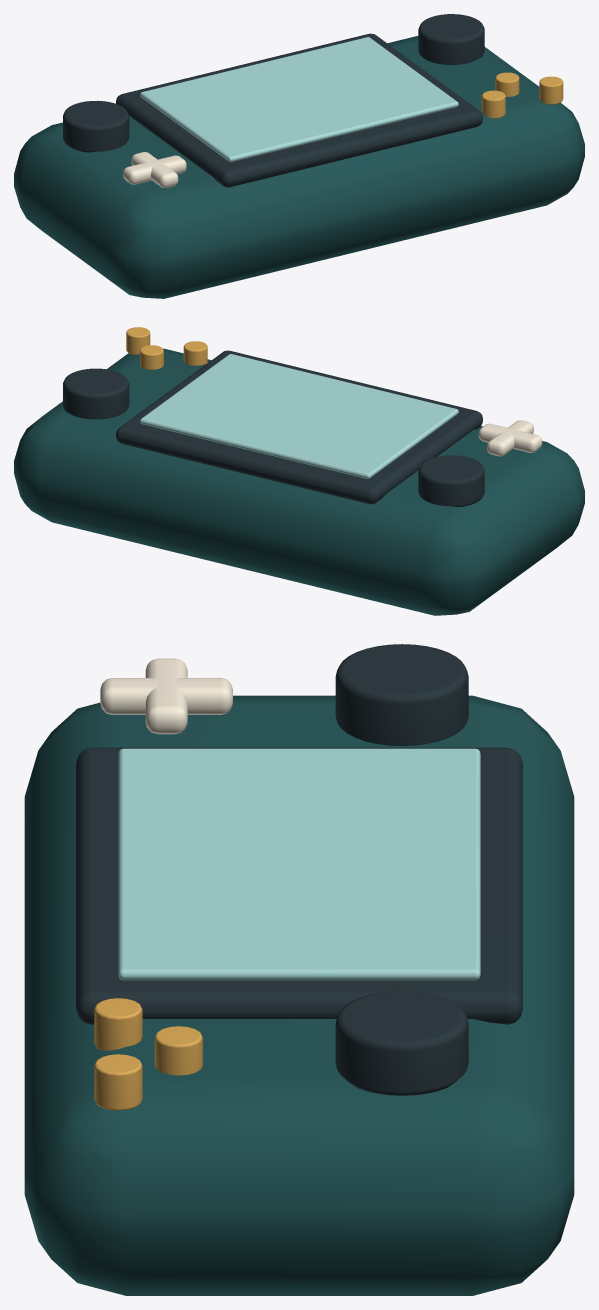
File: Console.fbx
The picture shows the model from 3 angles, top to bottom: view 1: azimuth 30°, elevation 25°; view 2: azimuth 150°, elevation 25°; view 3: azimuth 270°, elevation 25°; orthographic projection. The views are drawn at different scales.
Parts seen in each view (by area): view 1: Surface_KKTC_CanvasDeep, Surface_KKTC_Lens, Surface_KKTC_Rubber, Surface_KKTC_Ochre, Surface_KKTC_WarmWhite; view 2: Surface_KKTC_CanvasDeep, Surface_KKTC_Lens, Surface_KKTC_Rubber, Surface_KKTC_Ochre, Surface_KKTC_WarmWhite; view 3: Surface_KKTC_CanvasDeep, Surface_KKTC_Lens, Surface_KKTC_Rubber, Surface_KKTC_Ochre, Surface_KKTC_WarmWhite.
Part boxes in pixels (bbox=[...]): Surface_KKTC_CanvasDeep: bbox=[14, 36, 584, 298]; Surface_KKTC_Lens: bbox=[140, 37, 458, 162]; Surface_KKTC_Rubber: bbox=[63, 14, 484, 187]; Surface_KKTC_Ochre: bbox=[481, 72, 563, 118]; Surface_KKTC_WarmWhite: bbox=[123, 152, 186, 187]; Surface_KKTC_CanvasDeep: bbox=[14, 348, 584, 615]; Surface_KKTC_Lens: bbox=[140, 354, 458, 478]; Surface_KKTC_Rubber: bbox=[63, 350, 484, 506]; Surface_KKTC_Ochre: bbox=[126, 327, 207, 369]; Surface_KKTC_WarmWhite: bbox=[478, 420, 542, 456]; Surface_KKTC_CanvasDeep: bbox=[24, 695, 574, 1295]; Surface_KKTC_Lens: bbox=[118, 748, 480, 980]; Surface_KKTC_Rubber: bbox=[76, 644, 522, 1095]; Surface_KKTC_Ochre: bbox=[94, 998, 202, 1110]; Surface_KKTC_WarmWhite: bbox=[100, 658, 232, 734].
Size of the model in its own units: 18 by 4.7 by 9.1.
